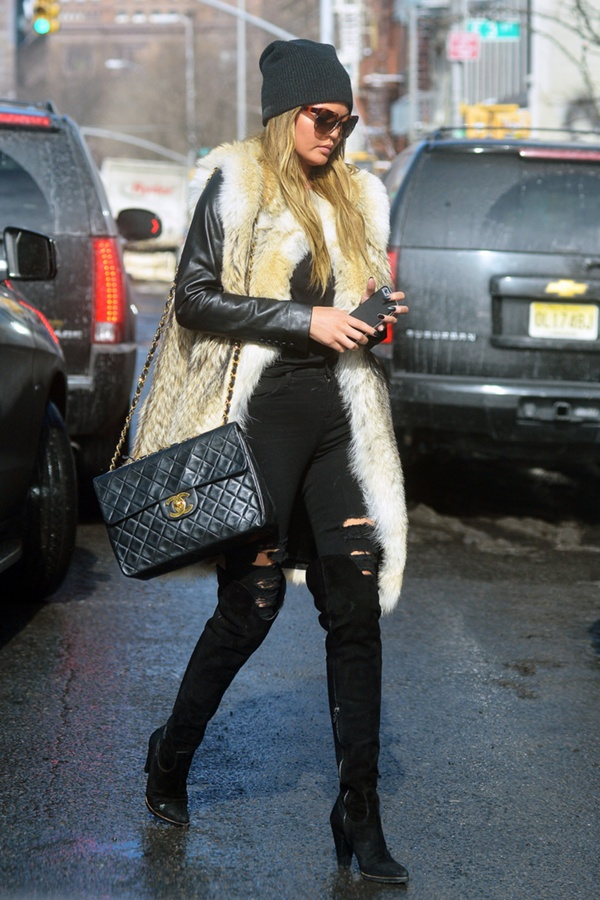channel: (75, 410, 280, 578), (150, 488, 205, 516)
